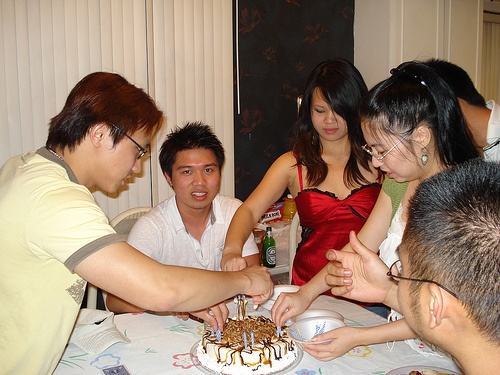head: (46, 71, 165, 194), (359, 79, 441, 189), (160, 123, 228, 214), (301, 63, 353, 146)
person: (1, 72, 287, 374), (267, 161, 500, 369), (222, 51, 393, 315), (125, 123, 252, 277)
